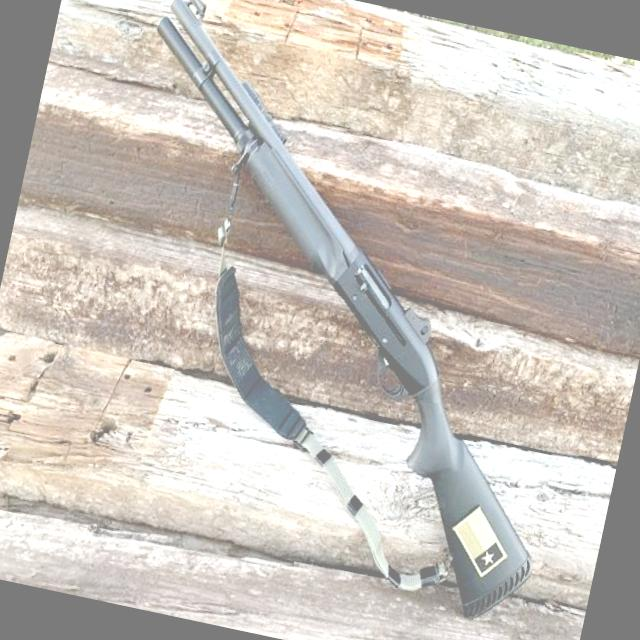shotgun: (29, 0, 640, 640)
